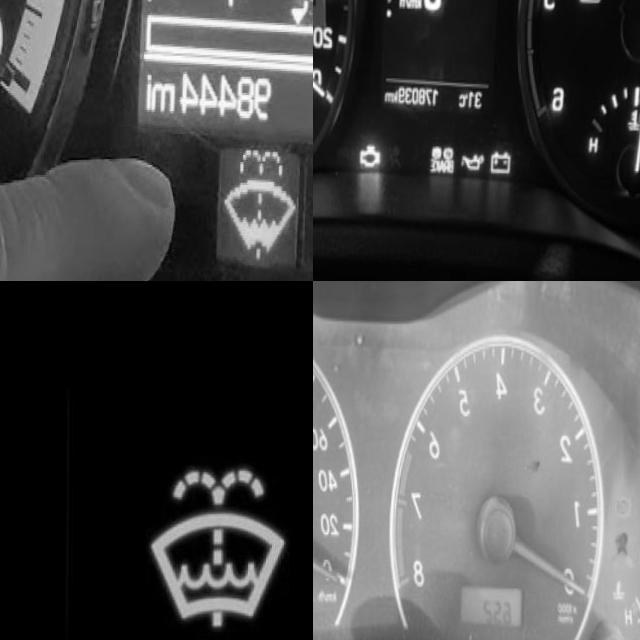Washer Fluid: (149, 468, 288, 631), (223, 150, 298, 256)
